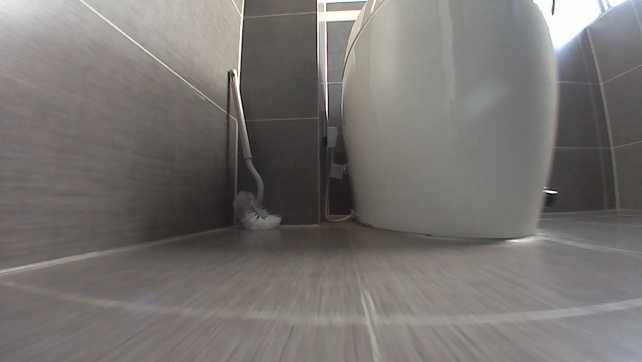toilet: (335, 0, 570, 244)
